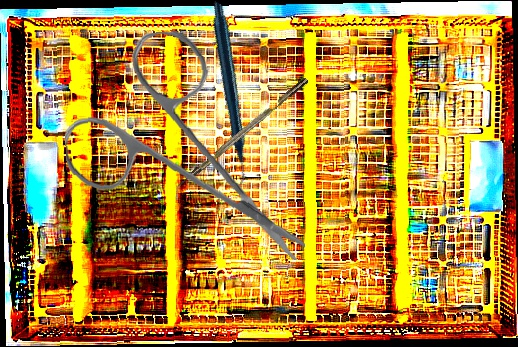Chopper: (166, 77, 315, 201)
Handpiece: (141, 0, 314, 190)
Iris Scissors: (58, 23, 306, 276)
